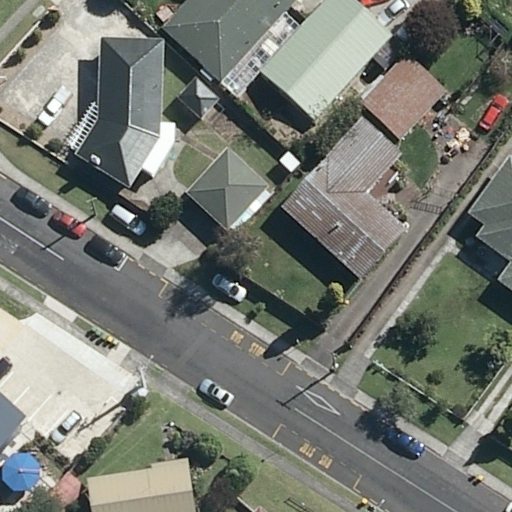DT: (134, 363, 151, 391), (86, 196, 100, 220), (329, 350, 340, 374)
